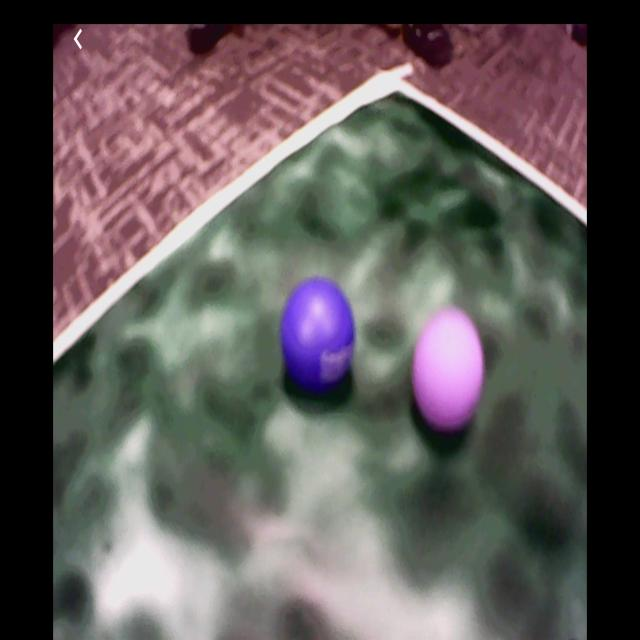ball: (413, 312, 485, 432), (282, 279, 355, 391)
